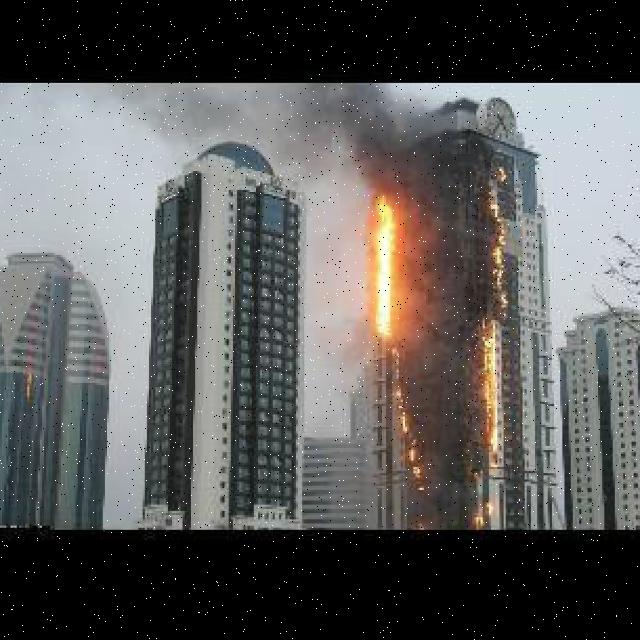fire: (474, 150, 514, 492), (346, 186, 403, 349), (392, 343, 407, 423), (405, 429, 424, 490), (472, 496, 497, 526)
smoke: (98, 80, 416, 184)
